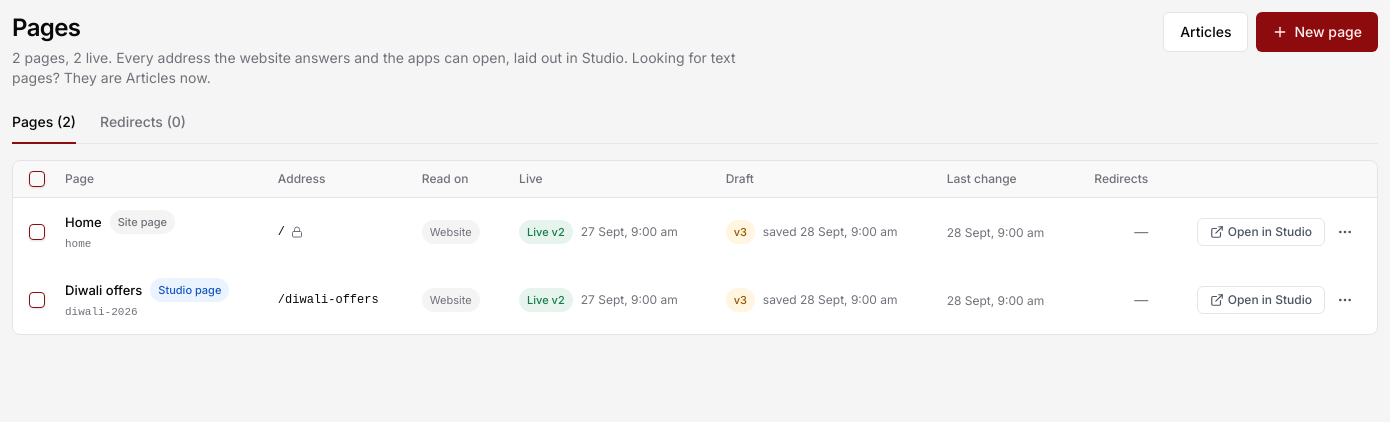
Test case: permissions › shuts each action the role lacks, naming the power
The width and height of the screenshot is (1390, 422).
Click the checkbox named "Select all rows" at (37, 179), box [29,171,45,187]
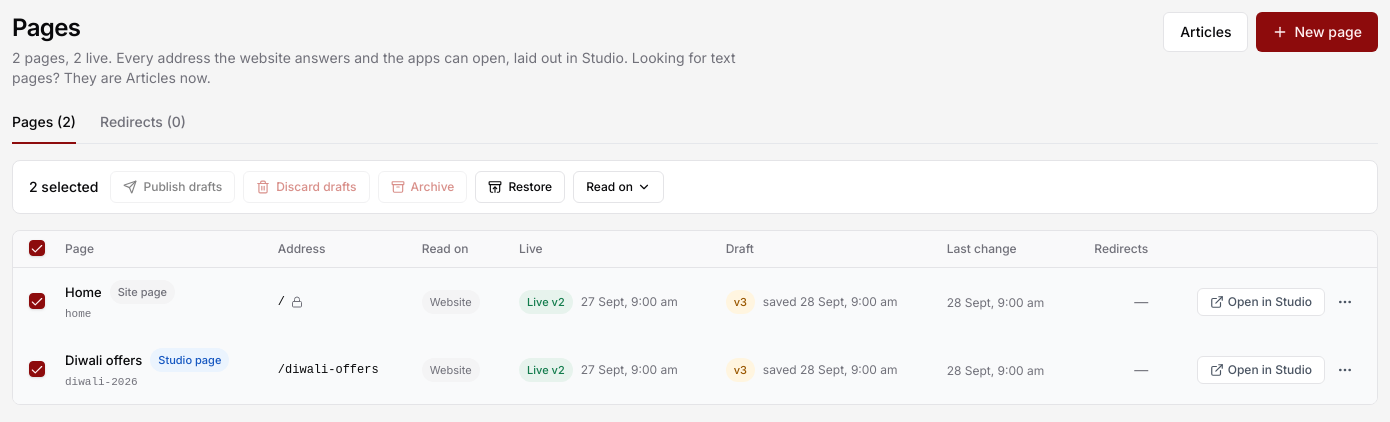
Check: the button with test id "bulk-publish" is disabled, box [110,171,235,203]
Check: the button with test id "bulk-archive" is disabled, box [378,171,467,203]
Check: the button with test id "bulk-restore" is enabled, box [475,171,565,203]
